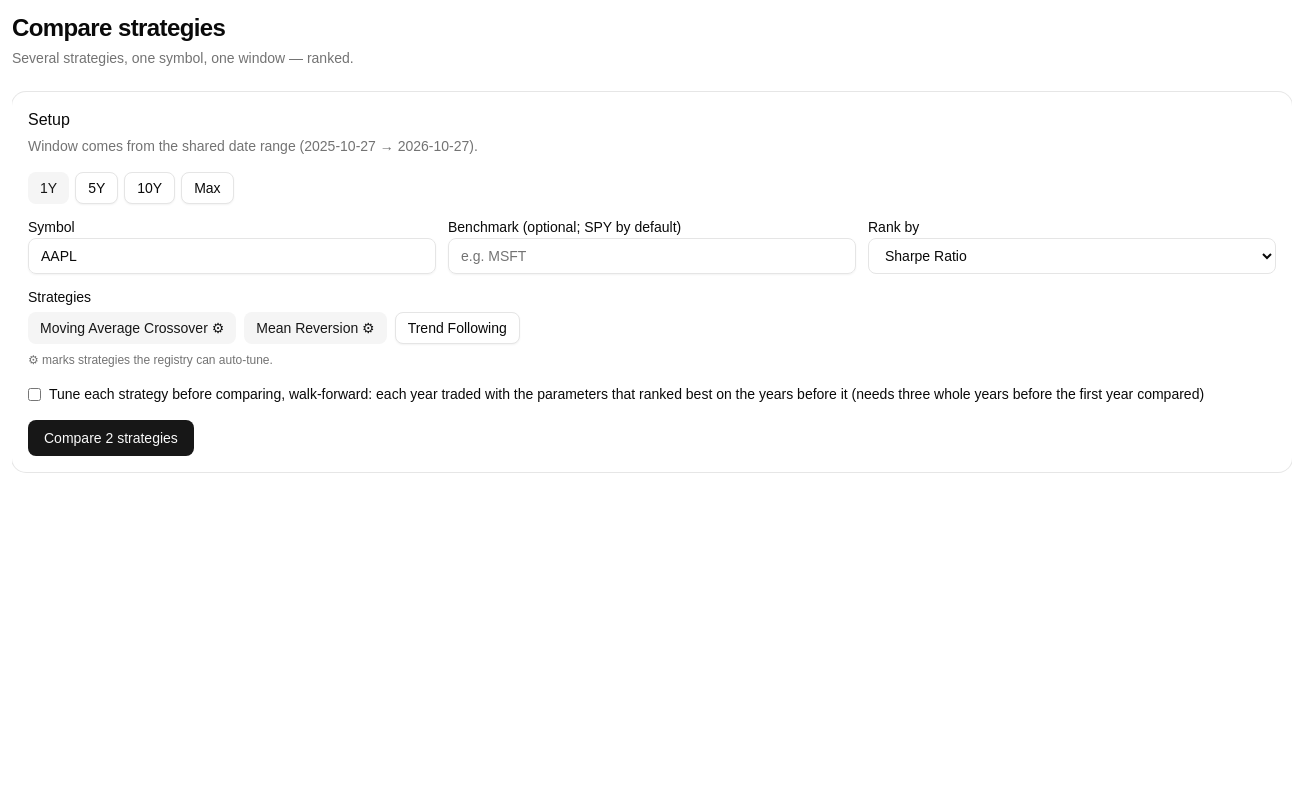
Test: ComparePage — results › reports strategies that could not be compared
Click the button "Compare 2 strategies" at (111,438), box [28,420,194,456]
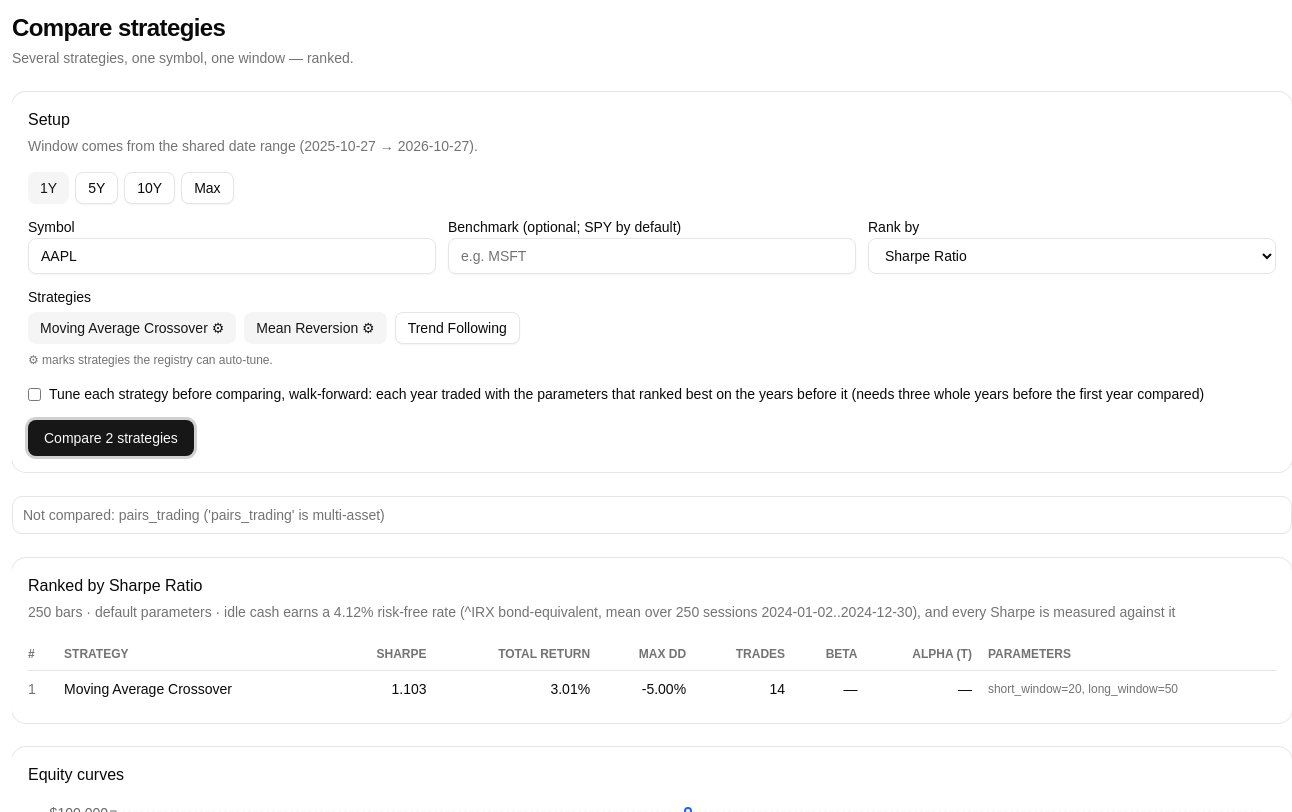
Result: the text "Not compared: pairs_trading ('pairs_trading' is multi-asset)" is shown at [23,507,385,523]
